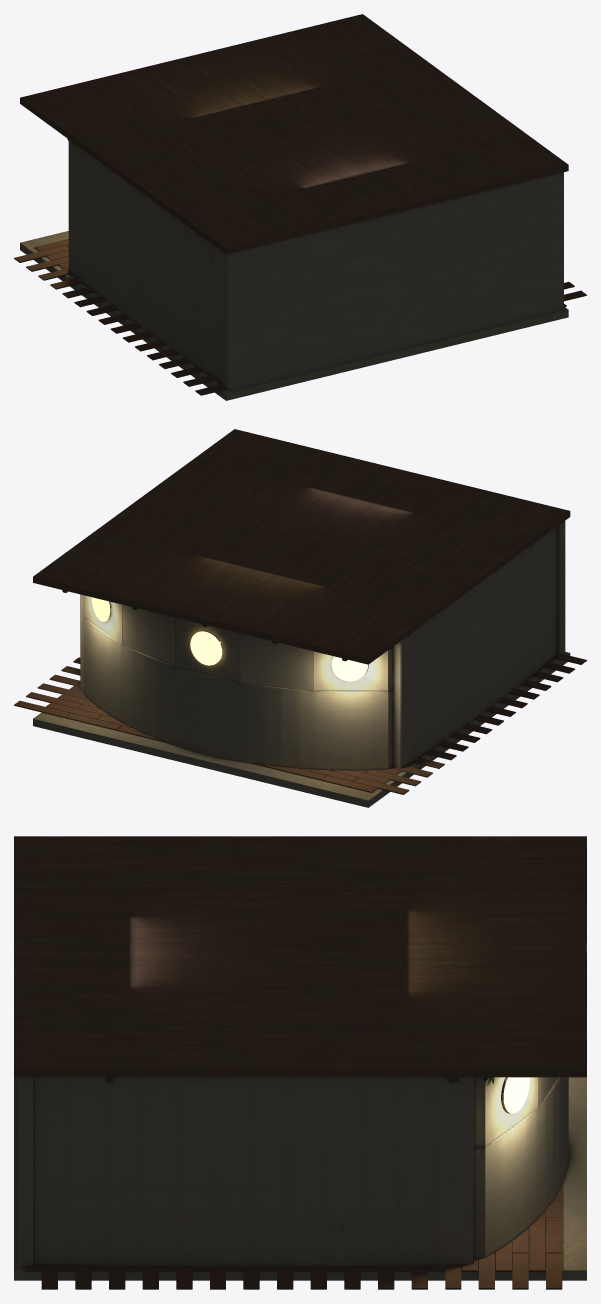
3 renders of one model, top to bottom at view 1: azimuth 30°, elevation 25°; view 2: azimuth 150°, elevation 25°; view 3: azimuth 270°, elevation 25°, orthographic. The views are drawn at different scales.
Visible parts, largest first — view 1: hufflepuff_architecture, hufflepuff_floor; view 2: hufflepuff_architecture, hufflepuff_floor, hufflepuff_glow; view 3: hufflepuff_architecture, hufflepuff_floor, hufflepuff_glow.
Boxes of the visible parts, x1,y1,x2,y2 form: hufflepuff_architecture: [20, 14, 568, 391]; hufflepuff_floor: [14, 231, 586, 400]; hufflepuff_architecture: [33, 429, 570, 770]; hufflepuff_floor: [14, 635, 586, 807]; hufflepuff_glow: [91, 597, 368, 681]; hufflepuff_architecture: [14, 836, 586, 1267]; hufflepuff_floor: [14, 1077, 586, 1289]; hufflepuff_glow: [503, 1077, 529, 1113].
Bounding box in the file's own units: 16.48 × 6.12 × 15.
Materials: 6 (4 with a texture image).
